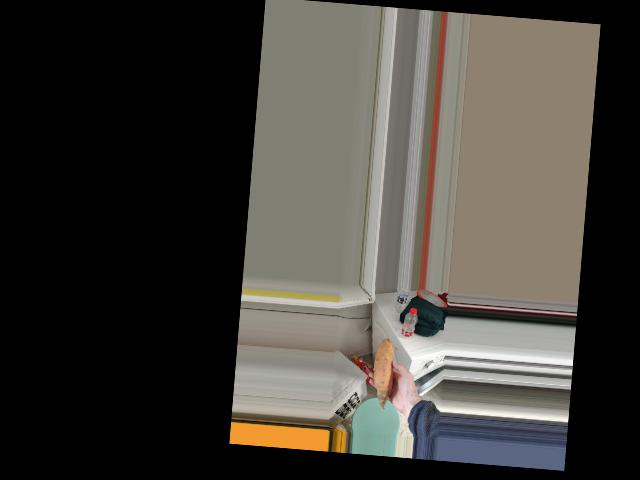sweet_potato: (374, 346, 400, 396)
